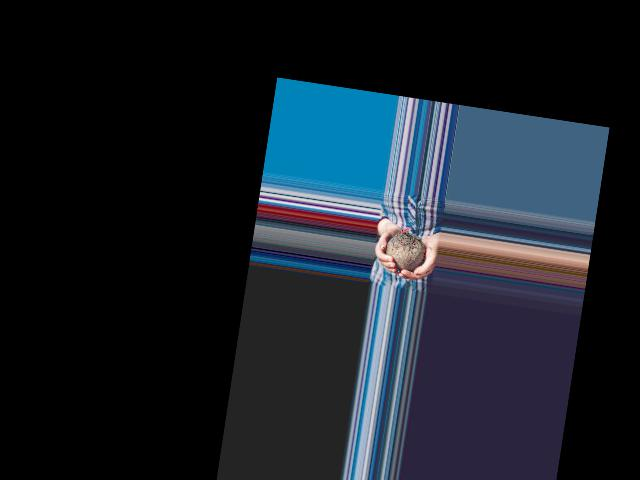beet: (384, 223, 429, 273)
